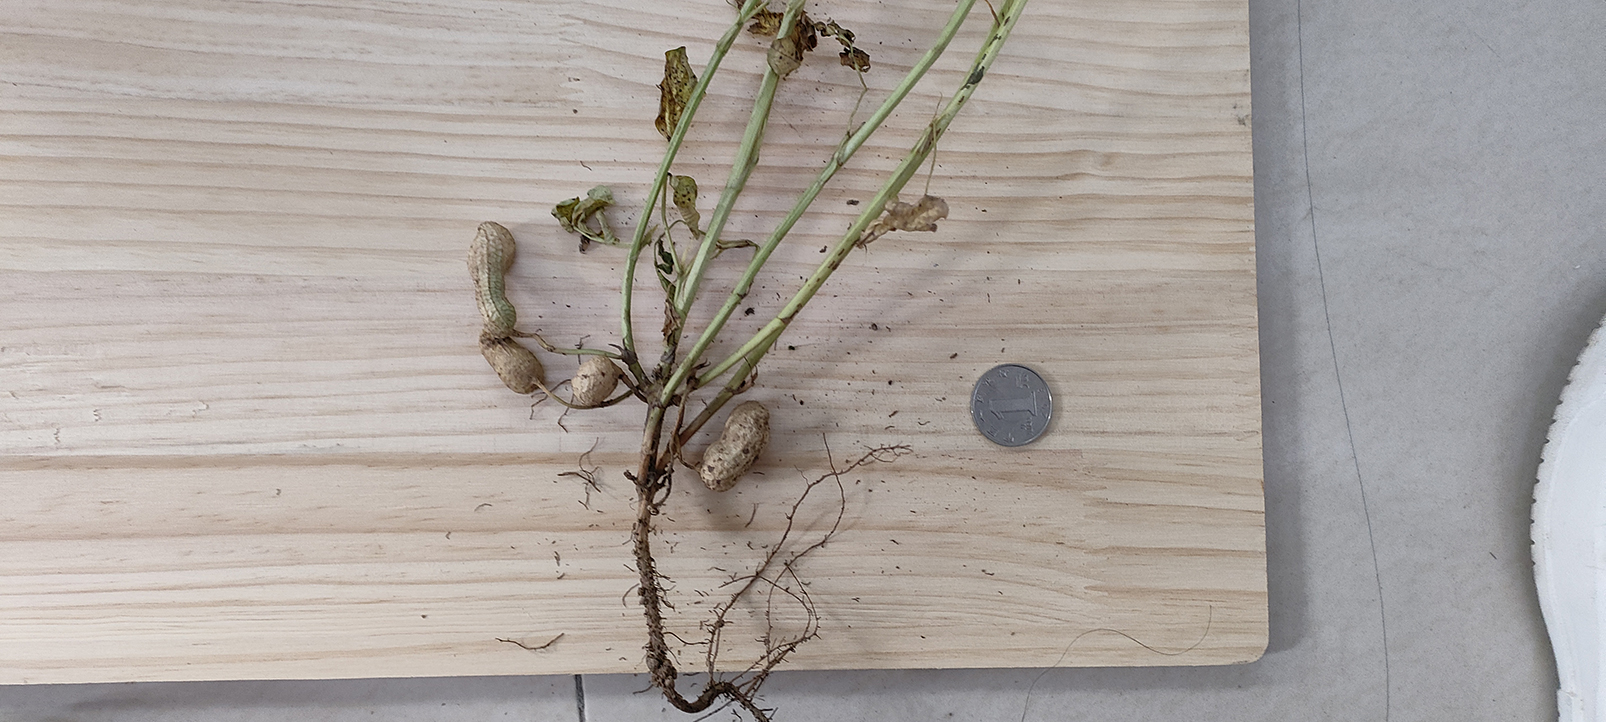h: (699, 400, 769, 489), (468, 222, 516, 336), (478, 334, 546, 392), (570, 353, 618, 402)
